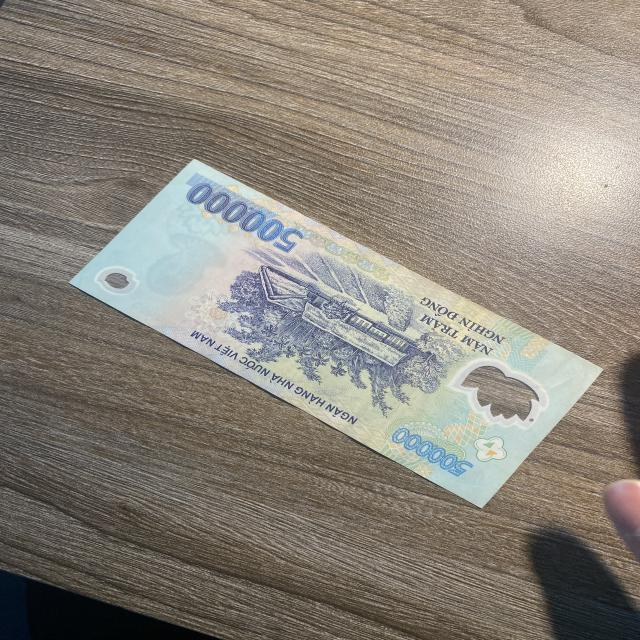500 000 VND: (68, 158, 604, 510)
